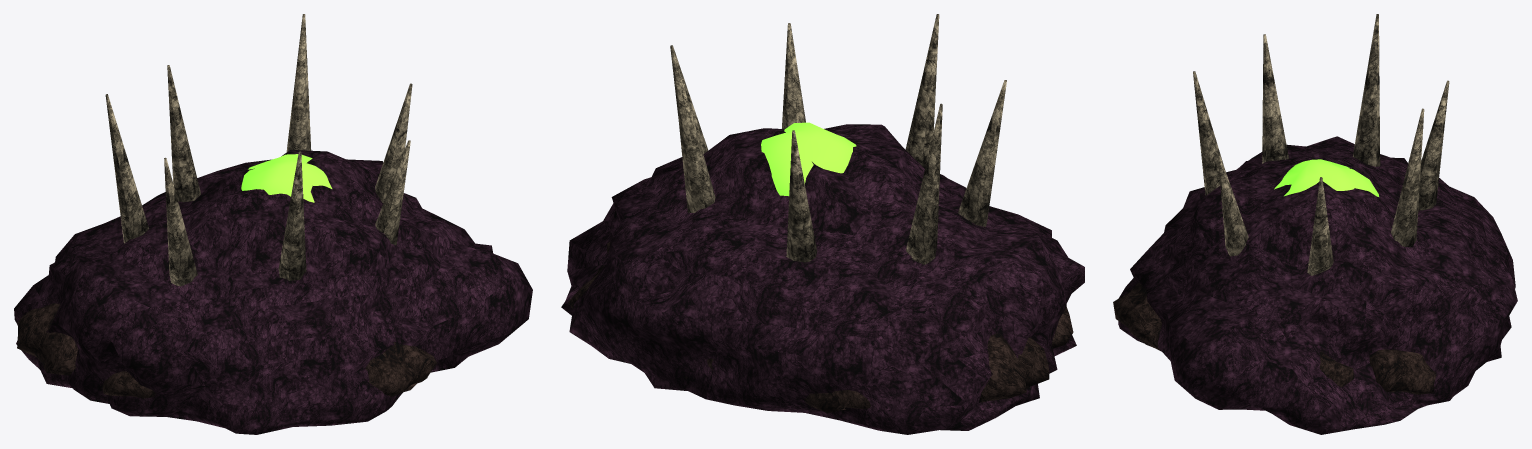
The model's file is nest.gltf.
3 renders of one model, left to right at view 1: azimuth 30°, elevation 25°; view 2: azimuth 150°, elevation 25°; view 3: azimuth 270°, elevation 25°, orthographic. The views are drawn at different scales.
Parts seen in each view (by area): view 1: mound, lobe4, lobe7, coreorb, spire3, spire2, spire5, spire4, spire1, spire6, spire0, lobe5; view 2: mound, coreorb, lobe4, spire3, spire1, spire4, spire2, spire5, spire6, lobe3, spire0, lobe5; view 3: mound, spire3, lobe1, spire1, coreorb, spire4, lobe7, spire2, spire5, spire0, spire6, lobe0.
Part boxes in pixels (<box>): mound: <box>14,150,532,434</box>; lobe4: <box>17,303,78,375</box>; lobe7: <box>365,342,436,396</box>; coreorb: <box>241,154,332,202</box>; spire3: <box>105,94,148,243</box>; spire2: <box>167,65,200,202</box>; spire5: <box>278,151,306,280</box>; spire4: <box>164,157,197,286</box>; spire1: <box>286,14,311,151</box>; spire6: <box>375,140,410,245</box>; spire0: <box>375,83,412,202</box>; lobe5: <box>102,371,155,398</box>; mound: <box>561,124,1084,434</box>; coreorb: <box>761,122,856,196</box>; lobe4: <box>979,333,1049,402</box>; spire3: <box>906,103,942,264</box>; spire1: <box>672,53,715,212</box>; spire4: <box>958,80,1006,226</box>; spire2: <box>786,130,817,262</box>; spire5: <box>905,14,939,168</box>; spire6: <box>782,23,805,128</box>; lobe3: <box>804,390,870,413</box>; spire0: <box>670,45,708,153</box>; lobe5: <box>1052,307,1073,348</box>; mound: <box>1118,136,1517,434</box>; spire3: <box>1352,14,1380,166</box>; lobe1: <box>1369,349,1436,394</box>; spire1: <box>1391,108,1424,247</box>; coreorb: <box>1274,159,1378,196</box>; spire4: <box>1262,34,1288,163</box>; lobe7: <box>1113,282,1161,350</box>; spire2: <box>1418,80,1449,210</box>; spire5: <box>1193,71,1223,195</box>; spire0: <box>1307,177,1333,275</box>; spire6: <box>1218,156,1248,256</box>; lobe0: <box>1319,351,1354,386</box>.
Bounding box in the file's own units: 406 × 232 × 326.
4 materials, 3 textured.
